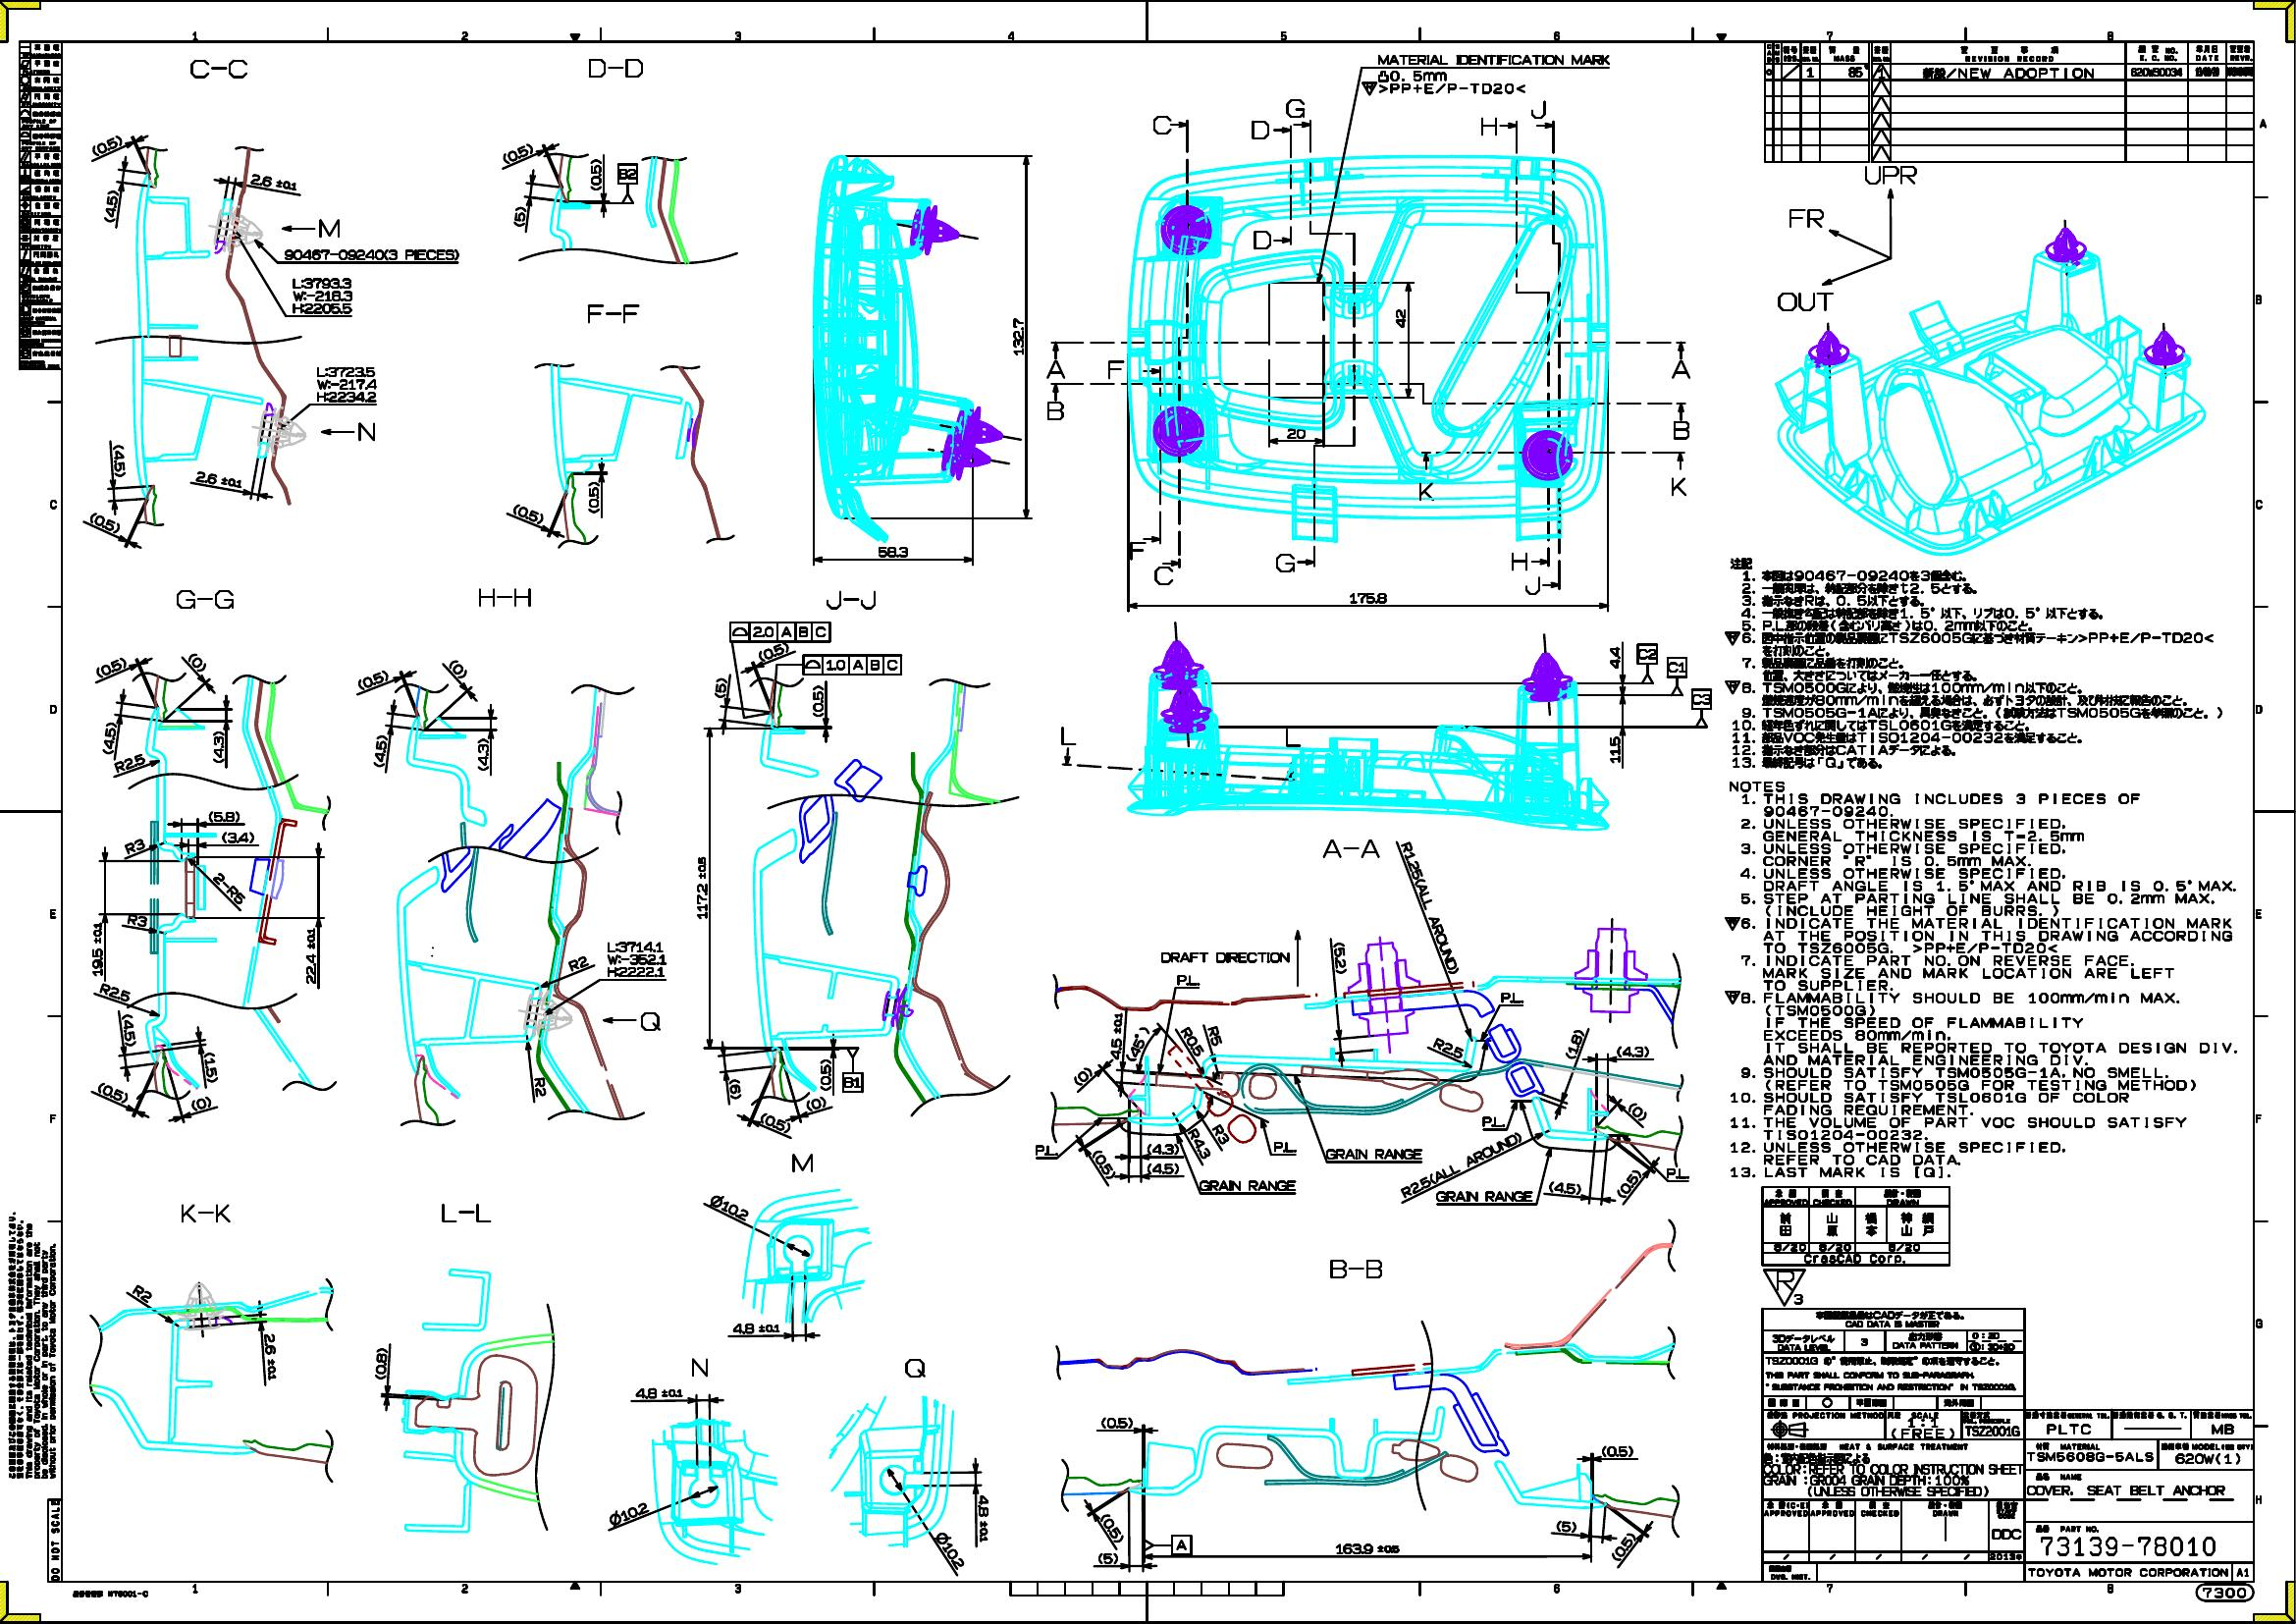anntotation_text: (1722, 555, 2243, 1179), (5, 1211, 58, 1480), (1360, 53, 1609, 95), (283, 248, 460, 262), (729, 622, 831, 642), (1423, 838, 1437, 977), (803, 656, 901, 675), (1159, 951, 1289, 965), (1760, 1267, 1806, 1306), (1393, 1158, 1527, 1171), (1433, 1190, 1534, 1202), (1325, 1148, 1423, 1160), (2194, 1584, 2256, 1603), (1326, 1258, 1381, 1280), (190, 60, 248, 79), (1776, 292, 1834, 311), (176, 589, 234, 608), (1321, 838, 1379, 858), (826, 589, 877, 610), (588, 58, 643, 77), (441, 1202, 490, 1223), (181, 1202, 230, 1223), (1198, 1179, 1296, 1190), (587, 304, 639, 323), (1864, 165, 1917, 185), (478, 587, 531, 606), (1788, 207, 1823, 228), (70, 1589, 149, 1598), (211, 882, 248, 895), (318, 218, 339, 239), (639, 1011, 661, 1032), (791, 1153, 813, 1172), (1175, 1035, 1209, 1048), (617, 163, 638, 183), (1152, 114, 1172, 135), (1045, 359, 1065, 380), (1671, 359, 1690, 380), (1284, 98, 1305, 118), (1637, 643, 1657, 664), (905, 1359, 926, 1378), (1184, 1137, 1216, 1149), (1154, 566, 1173, 585), (1275, 554, 1295, 573), (1253, 230, 1272, 250), (1251, 120, 1270, 139), (1667, 657, 1686, 677), (1692, 689, 1711, 708), (1172, 1534, 1191, 1554), (841, 1074, 863, 1091), (112, 758, 148, 768), (1107, 359, 1124, 380), (1432, 1042, 1465, 1053), (357, 422, 374, 441), (1047, 401, 1065, 420), (1130, 541, 1147, 561), (1672, 420, 1690, 439), (690, 1357, 708, 1376), (1525, 575, 1541, 596), (1530, 98, 1546, 120), (1418, 482, 1433, 501), (1511, 552, 1527, 571), (1481, 116, 1497, 135), (1284, 728, 1300, 747), (1059, 726, 1075, 745), (1665, 1167, 1690, 1179), (1175, 974, 1200, 986), (1035, 1144, 1058, 1156), (1500, 991, 1523, 1004), (1274, 1141, 1296, 1153), (1671, 478, 1686, 496), (1210, 1128, 1231, 1141), (126, 914, 148, 926), (132, 1287, 153, 1299), (1481, 1116, 1505, 1127), (123, 840, 146, 851), (1205, 1030, 1224, 1042), (534, 1077, 546, 1097), (569, 958, 588, 968)
dimension_text: (292, 278, 353, 315), (316, 366, 378, 402), (606, 940, 666, 977), (696, 856, 708, 919), (1335, 1543, 1400, 1554), (195, 473, 242, 487), (1093, 1028, 1140, 1042), (606, 1504, 648, 1520), (1117, 1035, 1156, 1051), (306, 926, 316, 984), (708, 1199, 750, 1213), (249, 176, 297, 188), (733, 1322, 780, 1334), (636, 1387, 683, 1399), (977, 1494, 989, 1541), (91, 921, 102, 975), (943, 1529, 957, 1570), (265, 1334, 276, 1380), (1012, 316, 1024, 355), (1349, 592, 1388, 605), (1323, 951, 1356, 965), (588, 158, 603, 190), (511, 508, 546, 520), (95, 200, 128, 213), (90, 139, 123, 151), (112, 445, 125, 478), (88, 517, 121, 529), (1616, 1046, 1650, 1058), (1613, 1178, 1646, 1190), (1548, 1181, 1581, 1193), (812, 684, 824, 717), (476, 738, 488, 772), (95, 661, 128, 673), (221, 831, 255, 844), (123, 1014, 135, 1048), (374, 1346, 386, 1380), (1105, 1512, 1117, 1545), (1100, 1417, 1133, 1429), (1600, 1445, 1634, 1457), (502, 148, 534, 160), (587, 482, 599, 513), (1558, 1037, 1590, 1049), (1147, 1142, 1179, 1155), (1087, 1158, 1119, 1171), (1147, 1162, 1179, 1174), (757, 645, 789, 657), (759, 1116, 791, 1128), (357, 673, 388, 685), (374, 735, 386, 766), (207, 810, 239, 823), (98, 986, 130, 998), (204, 1051, 216, 1083), (97, 1086, 128, 1098), (820, 1058, 831, 1091), (93, 733, 126, 743), (1607, 1541, 1641, 1552), (1609, 735, 1621, 763), (213, 731, 223, 763), (878, 547, 906, 557), (1627, 1104, 1648, 1118), (509, 211, 531, 223), (1286, 427, 1307, 439), (1609, 647, 1621, 668), (1072, 1070, 1093, 1083), (715, 677, 727, 698), (448, 663, 469, 675), (186, 656, 207, 668), (190, 1097, 211, 1109), (1555, 1520, 1576, 1533), (729, 1077, 740, 1100), (1098, 1552, 1117, 1564), (1395, 308, 1405, 329), (806, 1098, 826, 1109)
object: (1126, 153, 1609, 543), (1056, 1243, 1679, 1519), (1051, 916, 1683, 1151), (1776, 216, 2206, 555), (750, 680, 1000, 1106), (1126, 620, 1609, 831), (395, 685, 624, 1127), (812, 155, 1022, 543), (144, 675, 329, 1098), (128, 146, 295, 527), (88, 1280, 332, 1464), (402, 1267, 555, 1534), (548, 362, 724, 543), (827, 1394, 956, 1547), (650, 1418, 778, 1566), (740, 1188, 871, 1323), (548, 155, 689, 262)
title_block: (1760, 1308, 2254, 1580), (1765, 40, 2254, 162), (1760, 1186, 1950, 1265), (19, 40, 61, 369)
